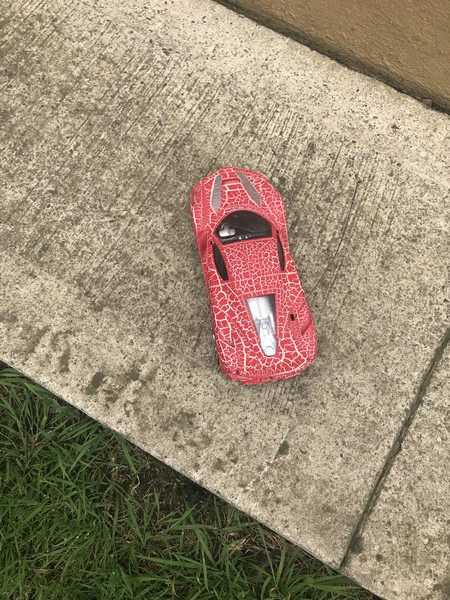RC: (190, 163, 319, 383)
